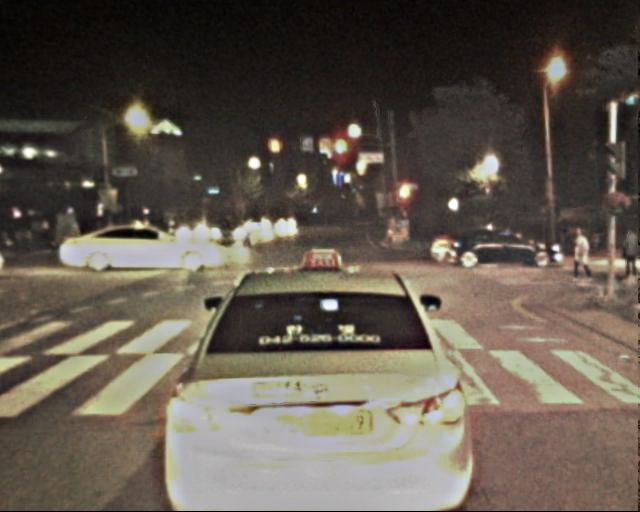person: (569, 225, 594, 286), (617, 227, 639, 285)
